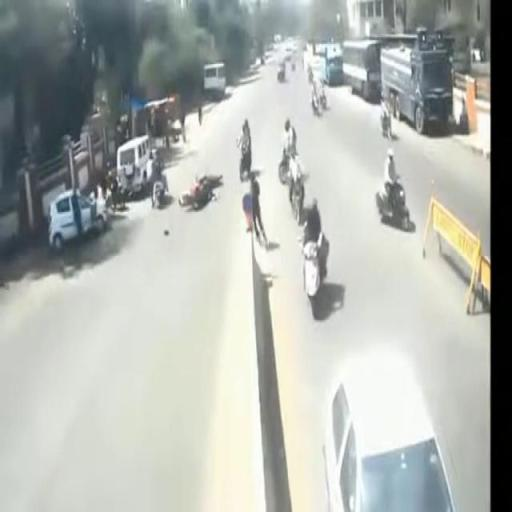小汽车: (324, 355, 457, 511), (382, 48, 456, 124), (51, 193, 107, 246), (115, 136, 157, 192)
自行车: (301, 199, 331, 309), (376, 150, 413, 229), (236, 116, 255, 180)
